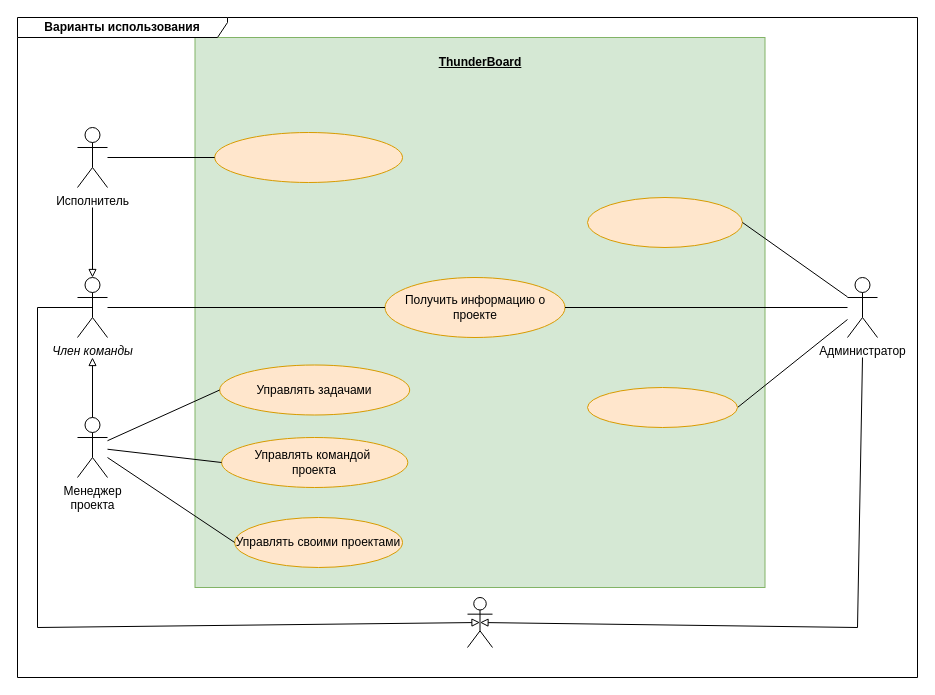
Some shapes in this 935 by 695 pixel diagram are drawn without their labels. Each missing label, with the box of its shape:
Пользователь: (466, 596, 492, 648)
Управлять пользователями: (586, 196, 742, 248)
Управлять проектами: (586, 386, 738, 428)
Управлять своими задачами: (214, 132, 402, 182)
